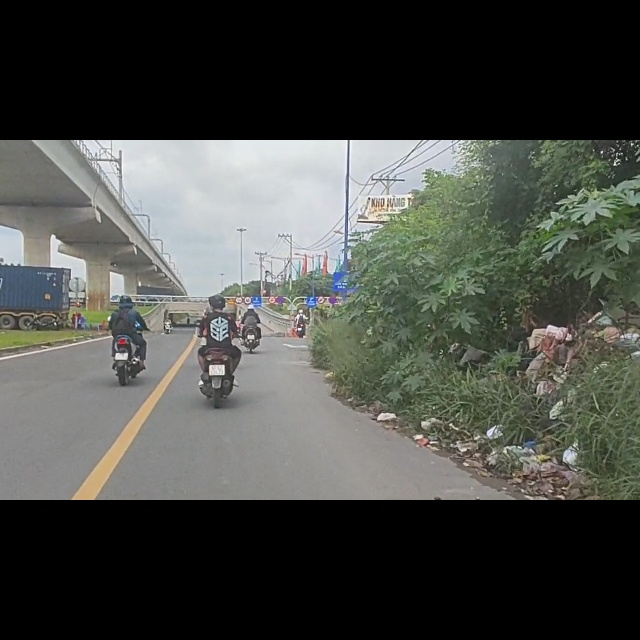bien_cam: (267, 276, 277, 292), (317, 276, 325, 292), (329, 276, 337, 292), (277, 277, 285, 292), (244, 279, 252, 293), (235, 277, 243, 290)
